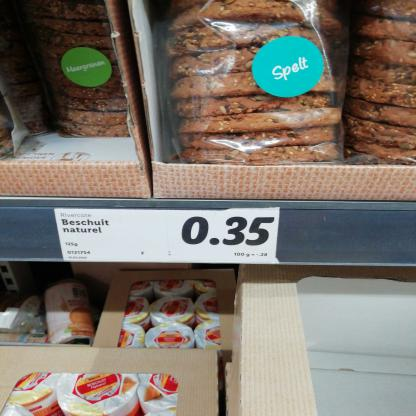prtg: (55, 208, 281, 264)
